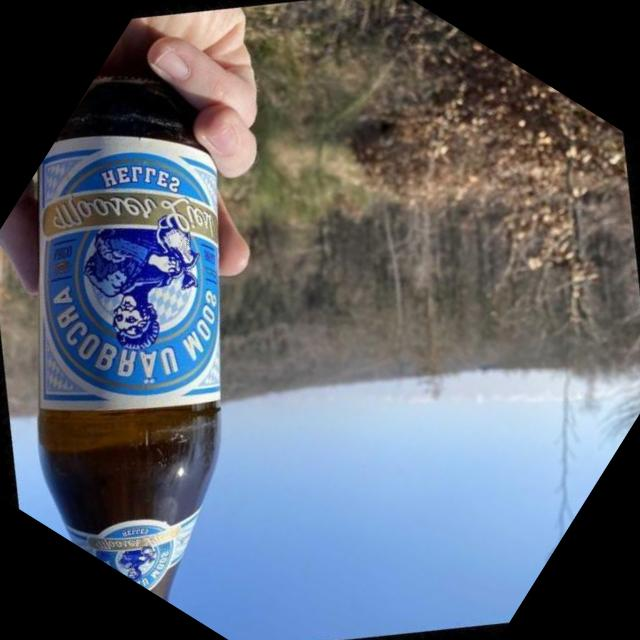BotolKaca: (0, 49, 404, 604)
